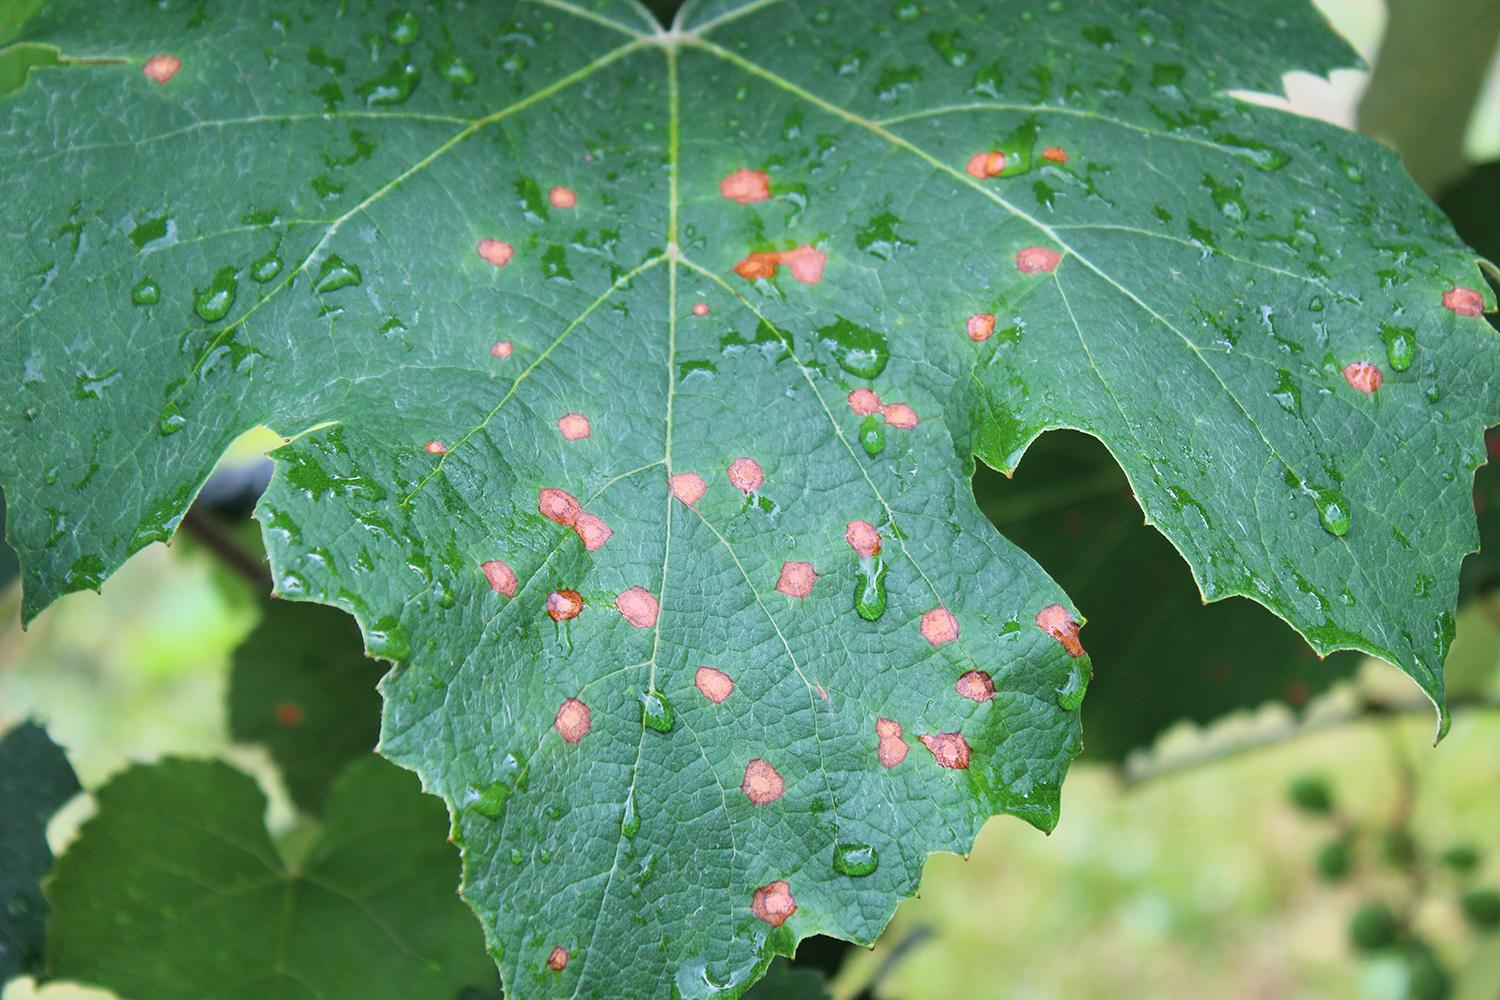grape leaf: (22, 8, 1496, 971)
